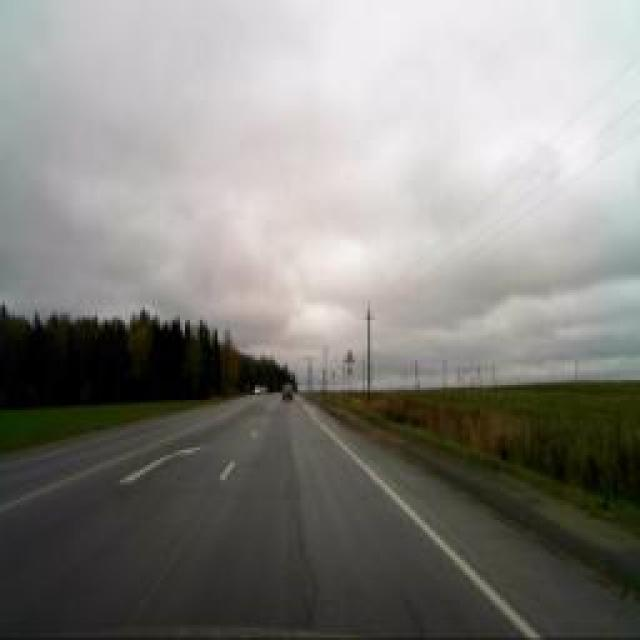sign: (345, 346, 355, 364)
